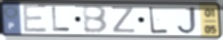B: (81, 5, 109, 34)
E: (21, 3, 50, 34)
J: (175, 6, 198, 35)
L: (148, 5, 169, 35), (50, 6, 72, 33)
Z: (110, 6, 138, 34)
